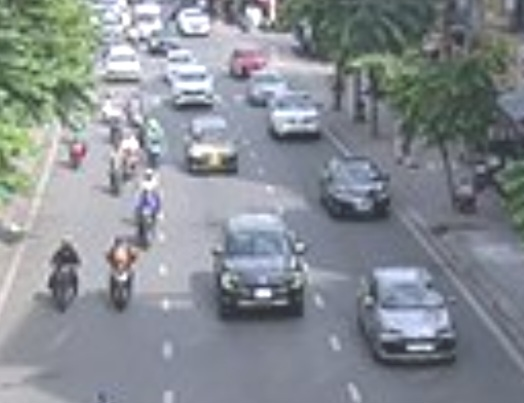car: (357, 265, 465, 366), (215, 214, 305, 318), (322, 155, 390, 222), (185, 117, 240, 175), (271, 94, 322, 139), (173, 68, 213, 109), (248, 72, 290, 104), (104, 46, 140, 83)
